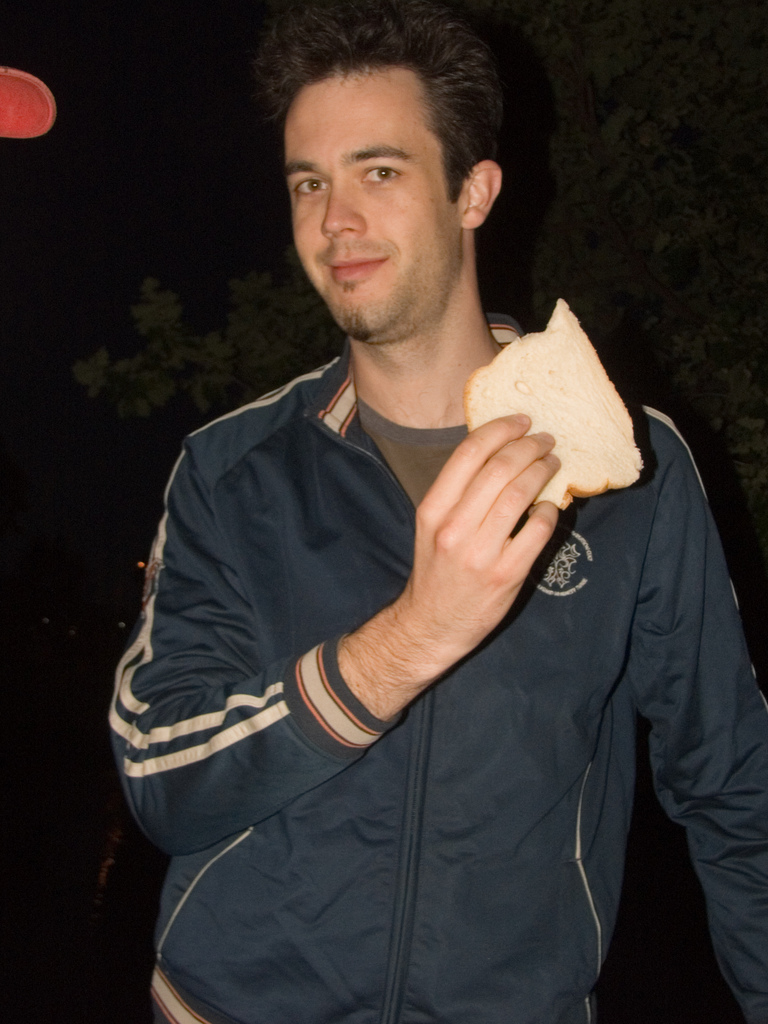slice of bread: (466, 325, 639, 504)
